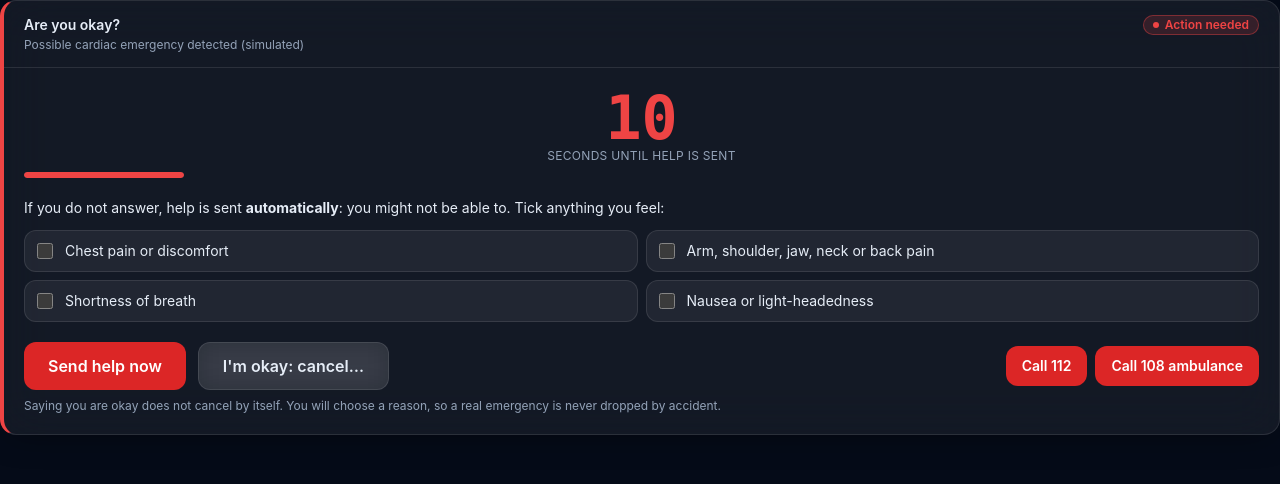
Test: ConfirmationScreen (features 43, 44) › shows an error and keeps the screen if sending fails
Click the button "Send help now" at (105, 366), box [24, 342, 186, 390]
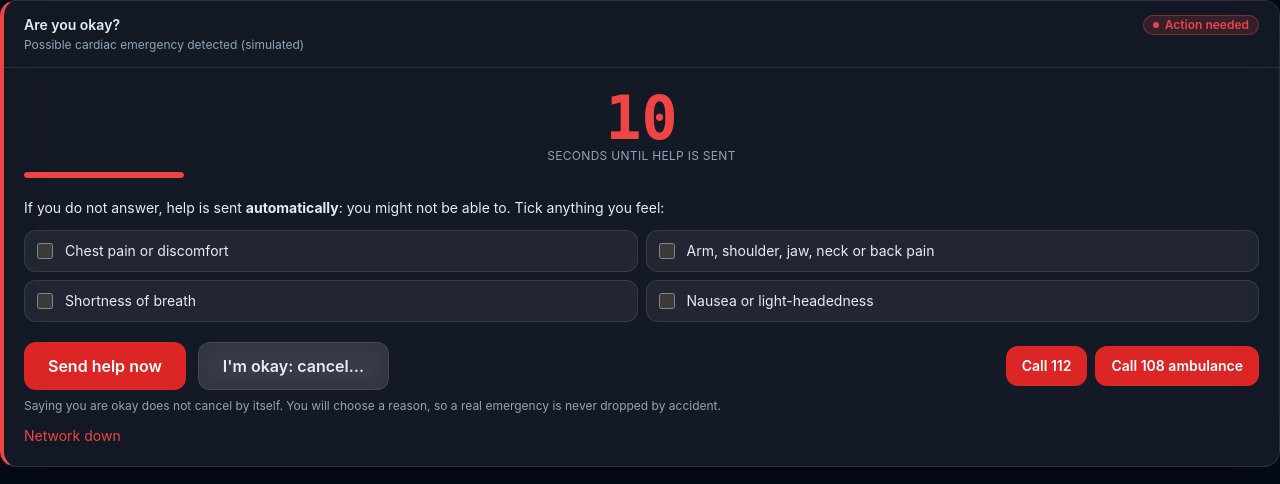
Check: the message reads "Network down", box [24, 427, 121, 444]
